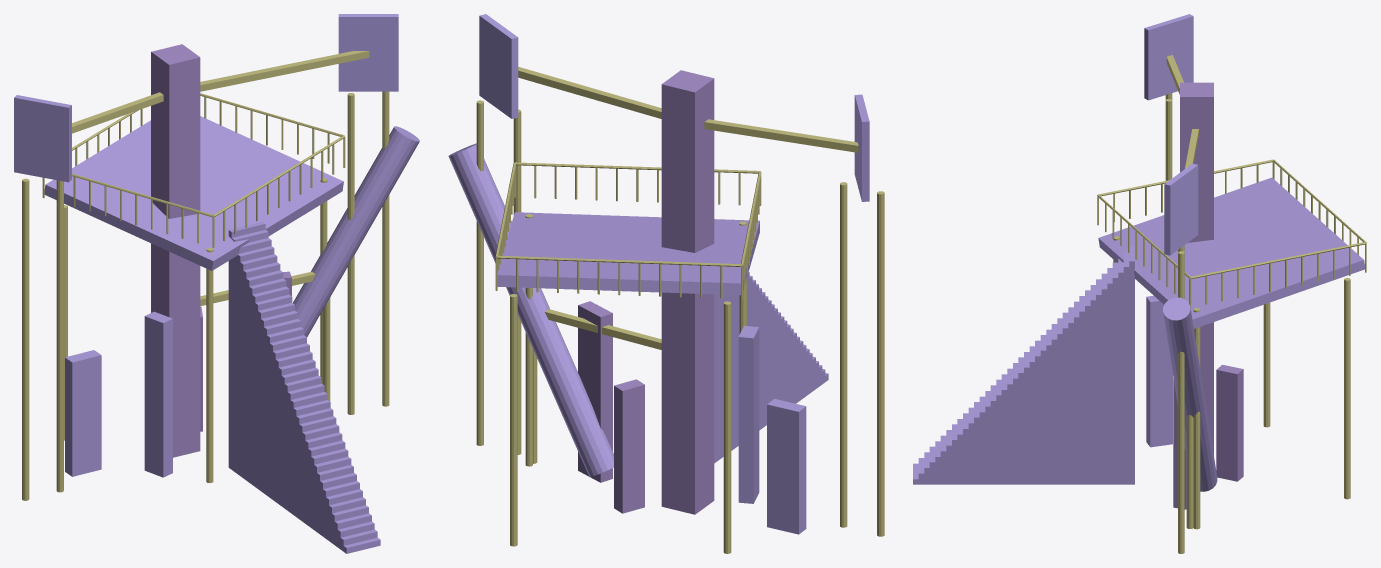
Rendered from folie_tag_091.glb.
3 views of the same model, side by side, from view 1: azimuth 30°, elevation 25°; view 2: azimuth 150°, elevation 25°; view 3: azimuth 270°, elevation 25° (orthographic). The views are drawn at different scales.
Parts seen in each view (by area): view 1: folie_tag_091_stairs, folie_tag_091_line, folie_tag_091_00_plate, folie_tag_091_core, folie_tag_091_02_tube, folie_tag_091_03_fin, folie_tag_091_06_panel, folie_tag_091_05_panel, folie_tag_091_04_fin; view 2: folie_tag_091_line, folie_tag_091_core, folie_tag_091_00_plate, folie_tag_091_02_tube, folie_tag_091_stairs, folie_tag_091_04_fin, folie_tag_091_07_fin, folie_tag_091_03_fin, folie_tag_091_01_fin, folie_tag_091_05_panel, folie_tag_091_06_panel; view 3: folie_tag_091_stairs, folie_tag_091_00_plate, folie_tag_091_line, folie_tag_091_core, folie_tag_091_02_tube, folie_tag_091_03_fin, folie_tag_091_06_panel, folie_tag_091_07_fin, folie_tag_091_05_panel, folie_tag_091_01_fin.
Part boxes in pixels (x1,y1,x2,y2): folie_tag_091_stairs: (228,221,380,553); folie_tag_091_line: (22,51,389,500); folie_tag_091_00_plate: (44,116,343,270); folie_tag_091_core: (151,44,200,457); folie_tag_091_02_tube: (293,126,419,336); folie_tag_091_03_fin: (144,311,172,477); folie_tag_091_06_panel: (14,95,71,182); folie_tag_091_05_panel: (338,14,398,91); folie_tag_091_04_fin: (65,350,101,476); folie_tag_091_line: (476,67,884,553); folie_tag_091_core: (661,70,714,514); folie_tag_091_00_plate: (497,212,759,295); folie_tag_091_02_tube: (448,143,613,477); folie_tag_091_stairs: (714,272,828,463); folie_tag_091_04_fin: (767,399,806,534); folie_tag_091_07_fin: (614,379,644,513); folie_tag_091_03_fin: (738,325,759,503); folie_tag_091_01_fin: (578,301,612,482); folie_tag_091_05_panel: (479,14,518,118); folie_tag_091_06_panel: (854,94,869,201); folie_tag_091_stairs: (913,245,1134,484); folie_tag_091_00_plate: (1098,177,1364,328); folie_tag_091_line: (1097,55,1366,553); folie_tag_091_core: (1180,82,1213,454); folie_tag_091_02_tube: (1163,297,1217,491); folie_tag_091_03_fin: (1146,295,1172,447); folie_tag_091_06_panel: (1144,14,1193,100); folie_tag_091_07_fin: (1216,364,1243,481); folie_tag_091_05_panel: (1164,163,1198,255); folie_tag_091_01_fin: (1173,378,1186,509).
Bounding box in the file's own units: 14.07 × 13.26 × 14.73.
